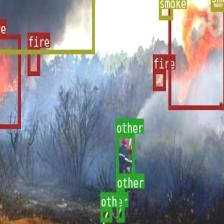fire: (167, 0, 224, 108), (0, 34, 20, 128), (28, 48, 40, 75), (152, 69, 165, 90)
smoke: (0, 0, 94, 53), (158, 0, 173, 19), (210, 0, 224, 10)
